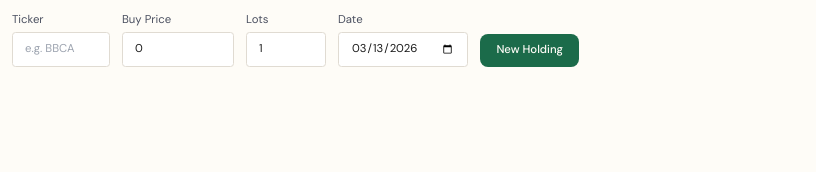
Test: BuyHoldingForm › shows error when buy price is zero
The image size is (816, 172).
Step 1. Type "BBCA" into the field labelled "Ticker" → (61, 49), box [12,32,110,67]
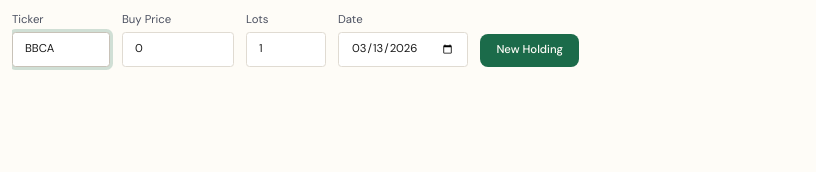
Step 2. Click the button "New Holding" → click(530, 50), box [480,34,579,67]
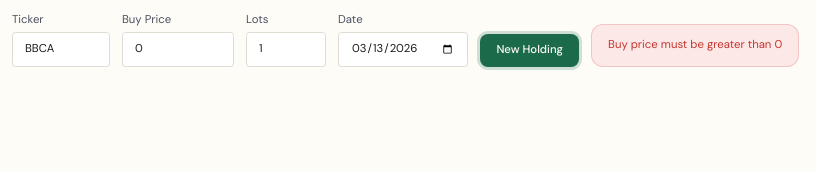
Now the message reads "Buy price must be greater than 0", box [608,37,782,52]
